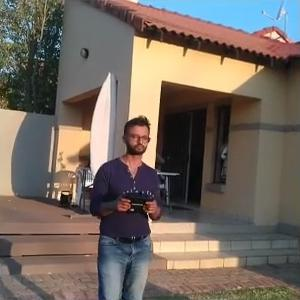follow: (88, 114, 163, 299)
